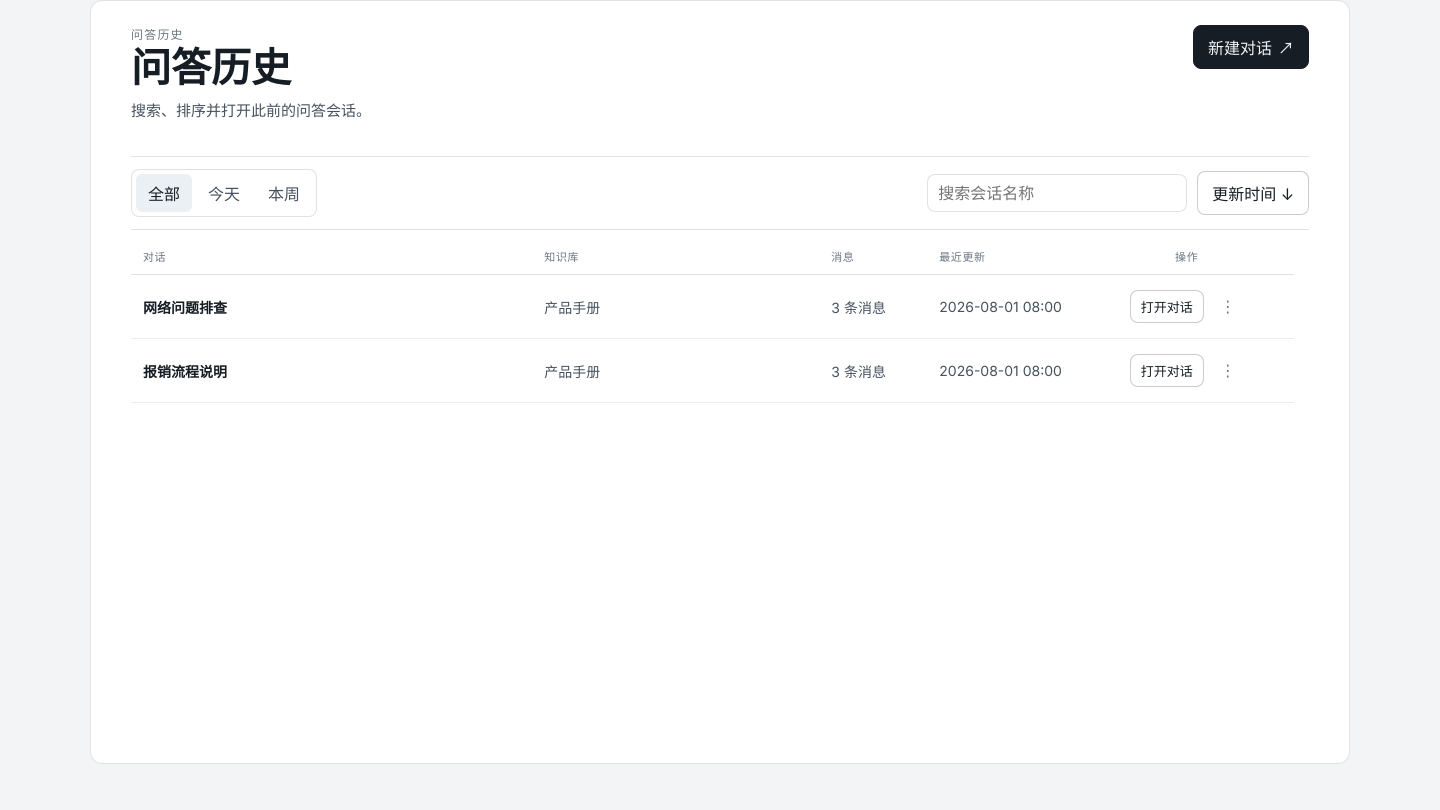
问答历史页（服务端搜索/排序/分页） › 搜索使用服务端 q（仅标题）：输入后带 q 重新查询，不做浏览器端过滤
Expected: the link "网络问题排查" is shown, x1=143 y1=298 x2=227 y2=316
Type "报销" into the search field with placeholder "搜索会话名称".
click(1057, 193); type("报销")  # box x1=927 y1=174 x2=1187 y2=212
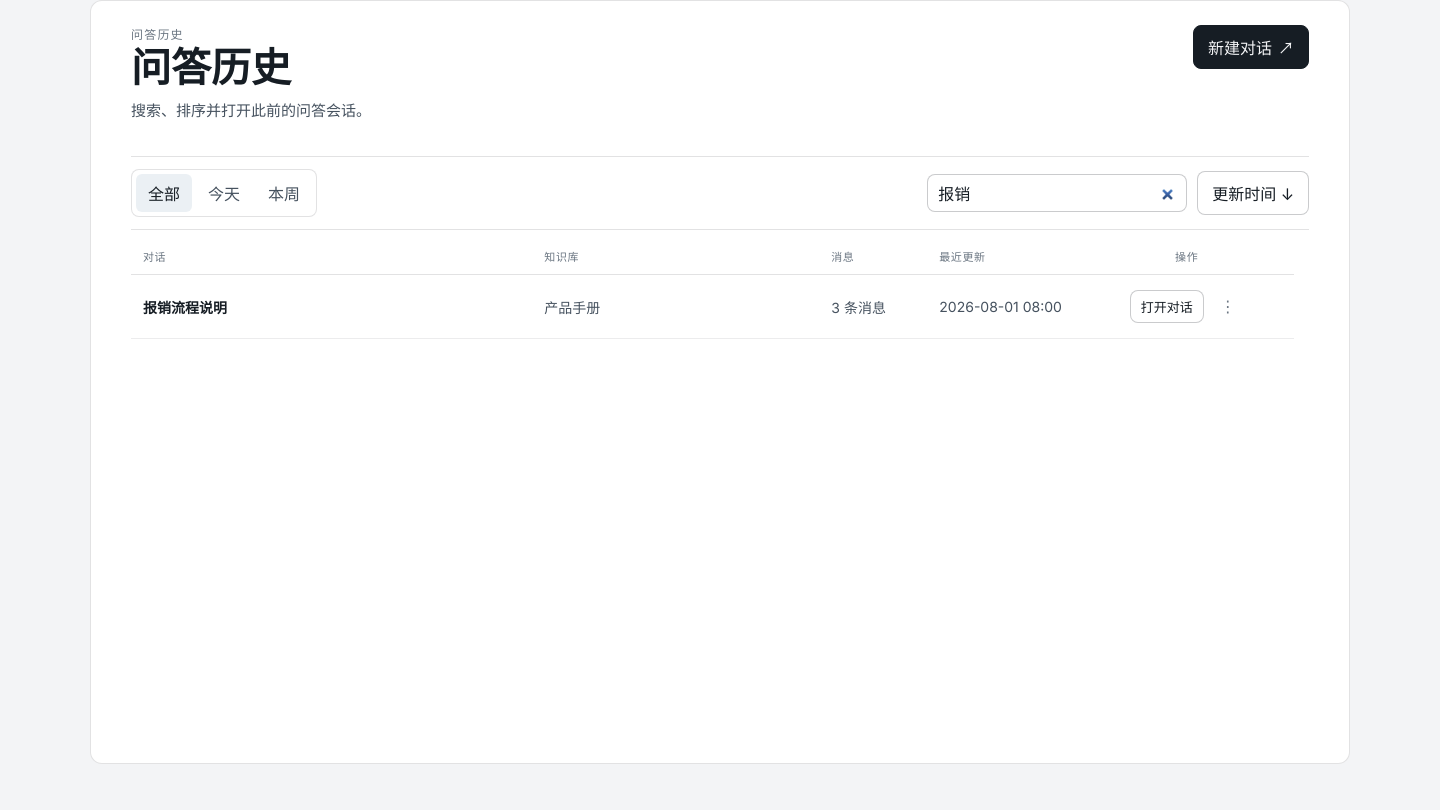
Expected: the link "报销流程说明" is shown, x1=143 y1=298 x2=227 y2=316
Expected: the link "网络问题排查" is gone
